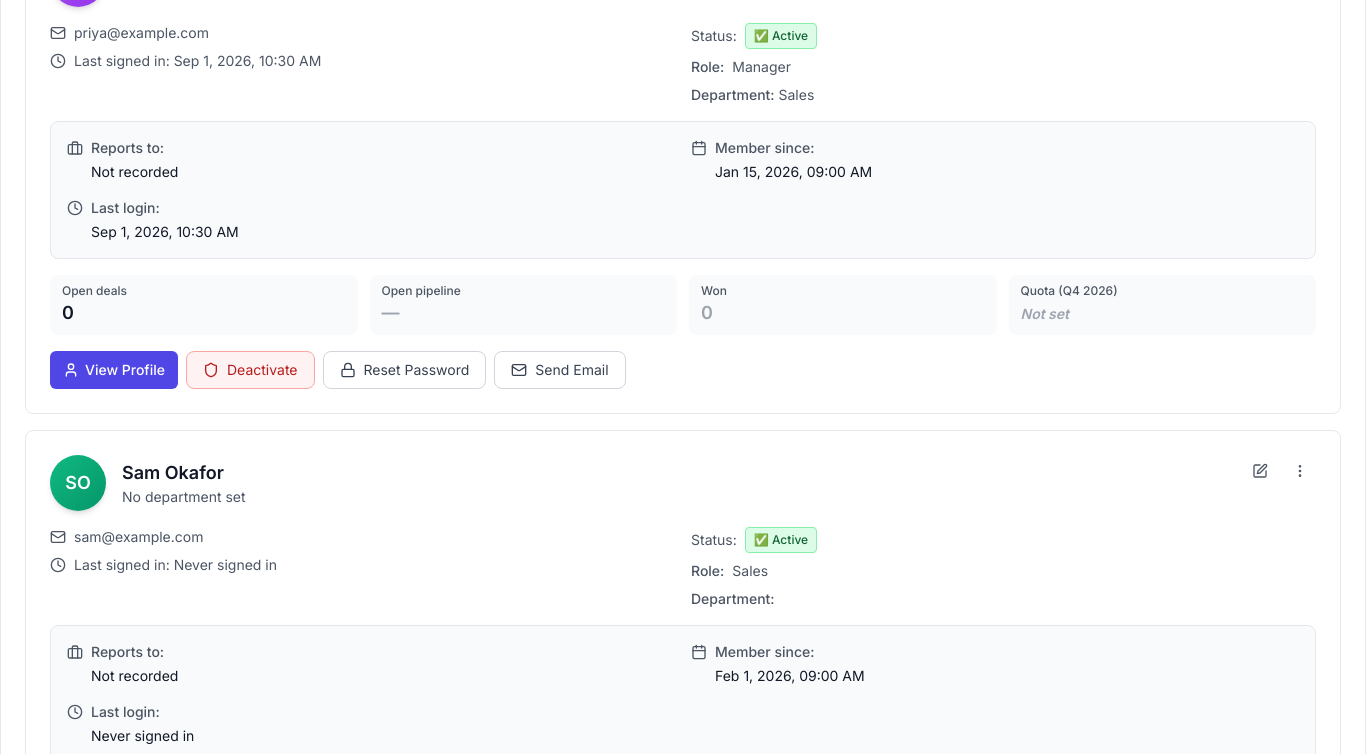
it: TeamManagement — deactivate › a 409 shows the server's real reason and leaves the member active
(page scrolled)
Click the button "Deactivate". click: (250,370)
box: [186,351,314,389]
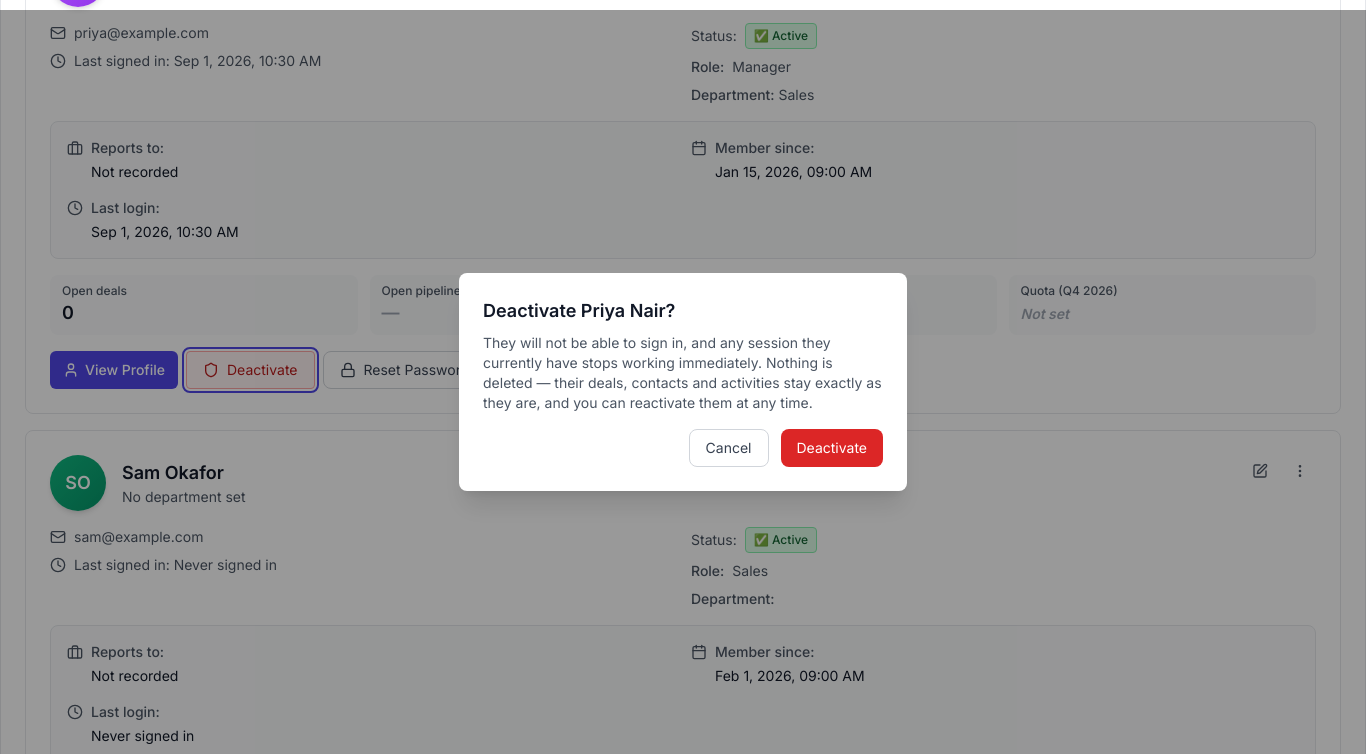
Click the button "Deactivate". click: (832,448)
box: [780,429,883,467]
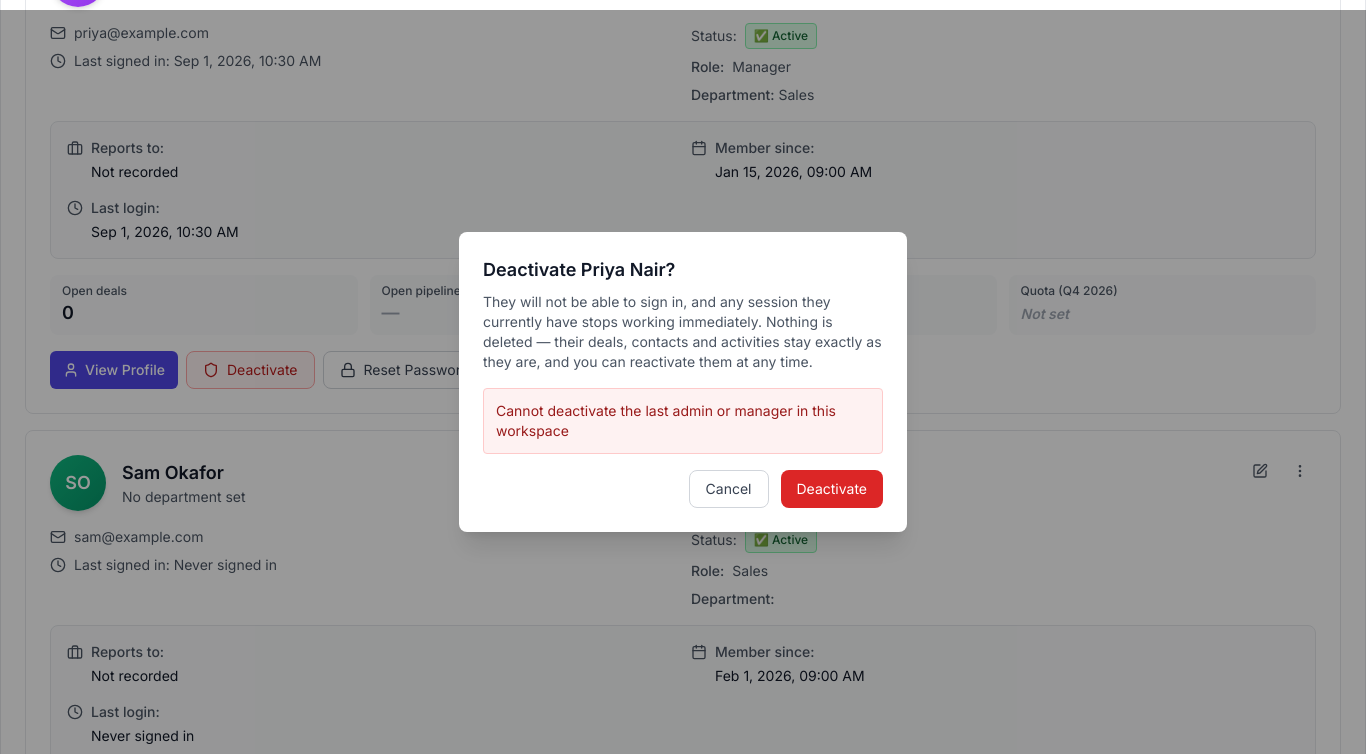
Result: the message reads "Cannot deactivate the last admin or manager in this workspace" at [496,402,836,439]
